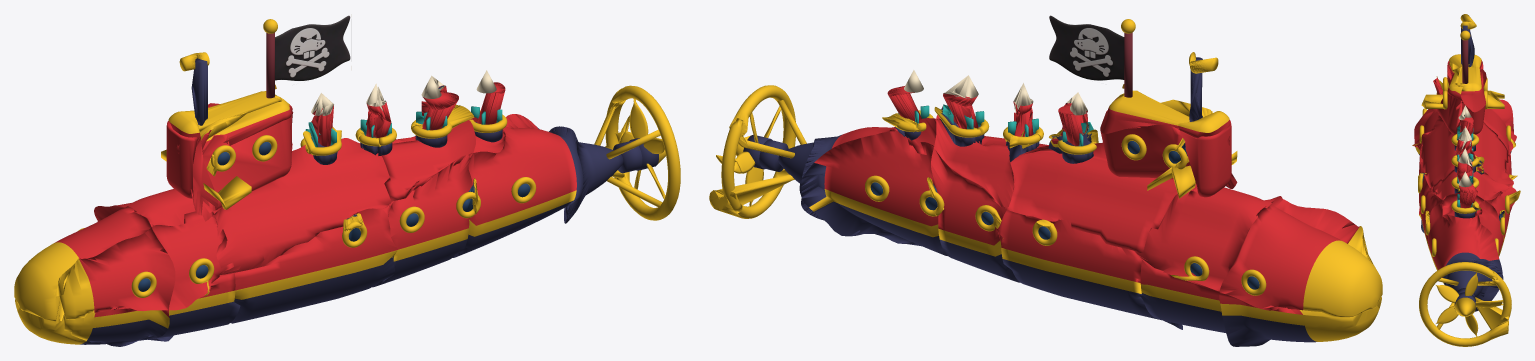
File: pieces-2.glb
3 renders of one model, left to right at view 1: azimuth 30°, elevation 25°; view 2: azimuth 150°, elevation 25°; view 3: azimuth 270°, elevation 25°, orthographic. The views are drawn at different scales.
Visible parts, largest first — view 1: piece12, piece22, piece10, piece27, piece15, piece16, piece2, piece3, piece6, piece18, piece7, piece0 (+8 smaller); view 2: piece13, piece3, piece23, piece7, piece11, piece15, piece27, piece17, piece1, piece19, piece5, piece28 (+6 smaller); view 3: piece27, piece22, piece12, piece13, piece15, piece7, piece19, piece24, piece23, piece6, piece18, piece17 (+10 smaller).
Part boxes in pixels (x1,y1,x2,y2): piece12: (202,108,391,274); piece22: (452,114,583,257); piece10: (226,204,397,323); piece27: (564,85,680,222); piece15: (191,15,377,140); piece16: (372,153,476,287); piece2: (59,227,175,321); piece3: (14,205,151,321); piece6: (152,137,233,310); piece18: (374,101,475,206); piece7: (118,120,213,226); piece0: (63,306,169,346); piece13: (1007,105,1190,252); piece3: (1219,196,1382,317); piece23: (801,131,947,255); piece7: (1136,120,1277,291); piece11: (997,207,1173,325); piece15: (1015,15,1212,133); piece27: (709,85,814,218); piece17: (927,148,1020,282); piece1: (1219,292,1381,346); piece19: (934,99,1019,208); piece5: (1137,254,1225,332); piece28: (709,118,747,216); piece27: (1419,259,1508,346); piece22: (1425,203,1502,311); piece12: (1418,68,1474,188); piece13: (1458,69,1516,186); piece15: (1449,21,1485,146); piece7: (1441,61,1516,154); piece19: (1460,148,1510,200); piece24: (1442,191,1480,218); piece23: (1478,200,1505,279); piece6: (1412,63,1451,146); piece18: (1429,153,1471,200); piece17: (1485,187,1520,242).
Bounding box in the file's own units: 1.42 × 0.6146 × 0.3057.
Materials: 7 (7 with a texture image).
